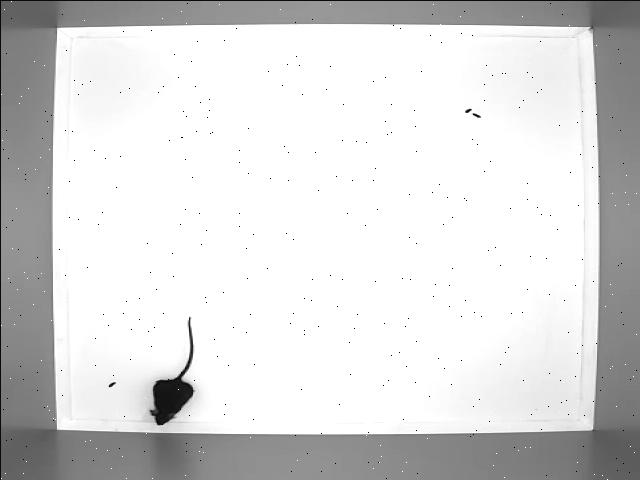Tikus: (142, 314, 198, 428)
